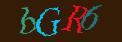6: (81, 5, 101, 29)
G: (36, 7, 61, 36)
R: (61, 5, 87, 32)
b: (20, 7, 36, 33)
